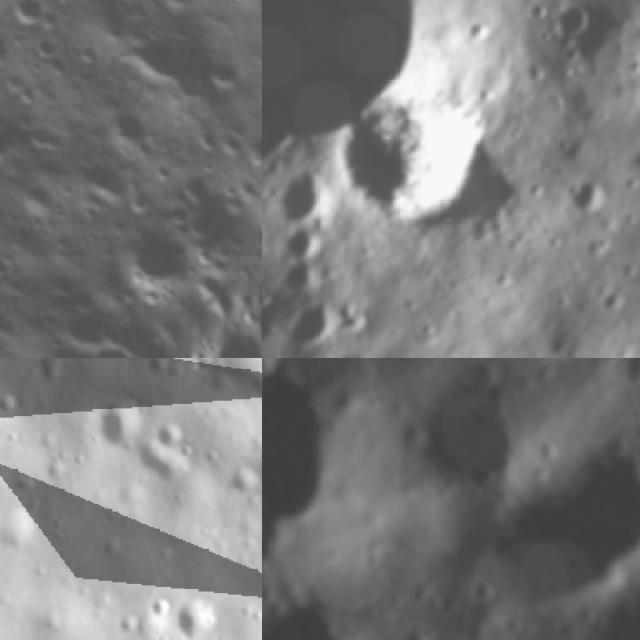crater: (301, 62, 519, 278), (452, 396, 640, 640), (262, 0, 462, 201), (382, 358, 574, 535), (262, 358, 382, 588), (547, 447, 640, 640), (101, 205, 206, 309), (262, 560, 396, 640), (262, 157, 343, 243), (273, 281, 362, 358), (112, 421, 194, 502), (81, 379, 155, 453), (552, 166, 620, 233), (272, 215, 334, 278), (141, 404, 198, 461), (545, 0, 604, 53), (206, 453, 262, 508), (163, 590, 224, 640), (201, 51, 247, 98), (0, 0, 49, 38), (77, 330, 135, 358), (384, 616, 443, 640), (0, 380, 27, 431), (606, 358, 640, 397), (158, 0, 201, 20), (0, 29, 13, 80)
